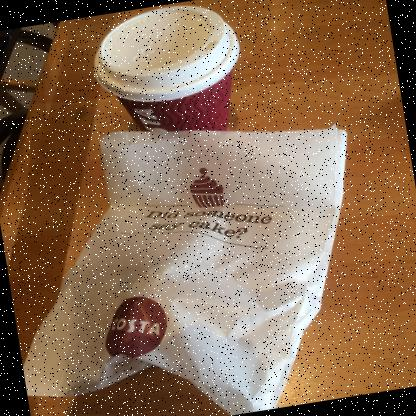Paper bag: (23, 123, 346, 414)
Paper cup: (93, 5, 239, 131)
Plastic lid: (93, 5, 238, 100)
